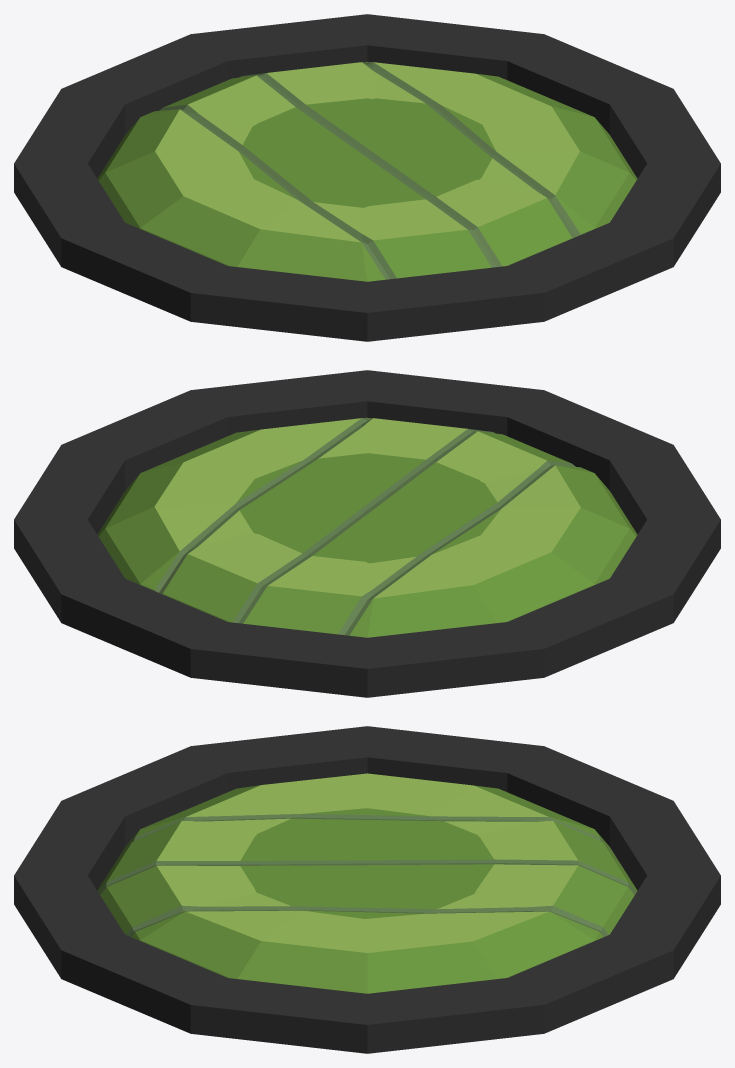
The model's file is F_Shield_A_Green.fbx.
3 renders of one model, top to bottom at view 1: azimuth 30°, elevation 25°; view 2: azimuth 150°, elevation 25°; view 3: azimuth 270°, elevation 25°, orthographic.
Visible parts, largest first — view 1: F_Shield_A_Green; view 2: F_Shield_A_Green; view 3: F_Shield_A_Green.
Boxes of the visible parts, bbox=[...] form: F_Shield_A_Green: bbox=[14, 14, 720, 341]; F_Shield_A_Green: bbox=[14, 370, 720, 697]; F_Shield_A_Green: bbox=[14, 726, 720, 1053].
Size of the model in its own units: 75.7 by 7.63 by 75.7.
